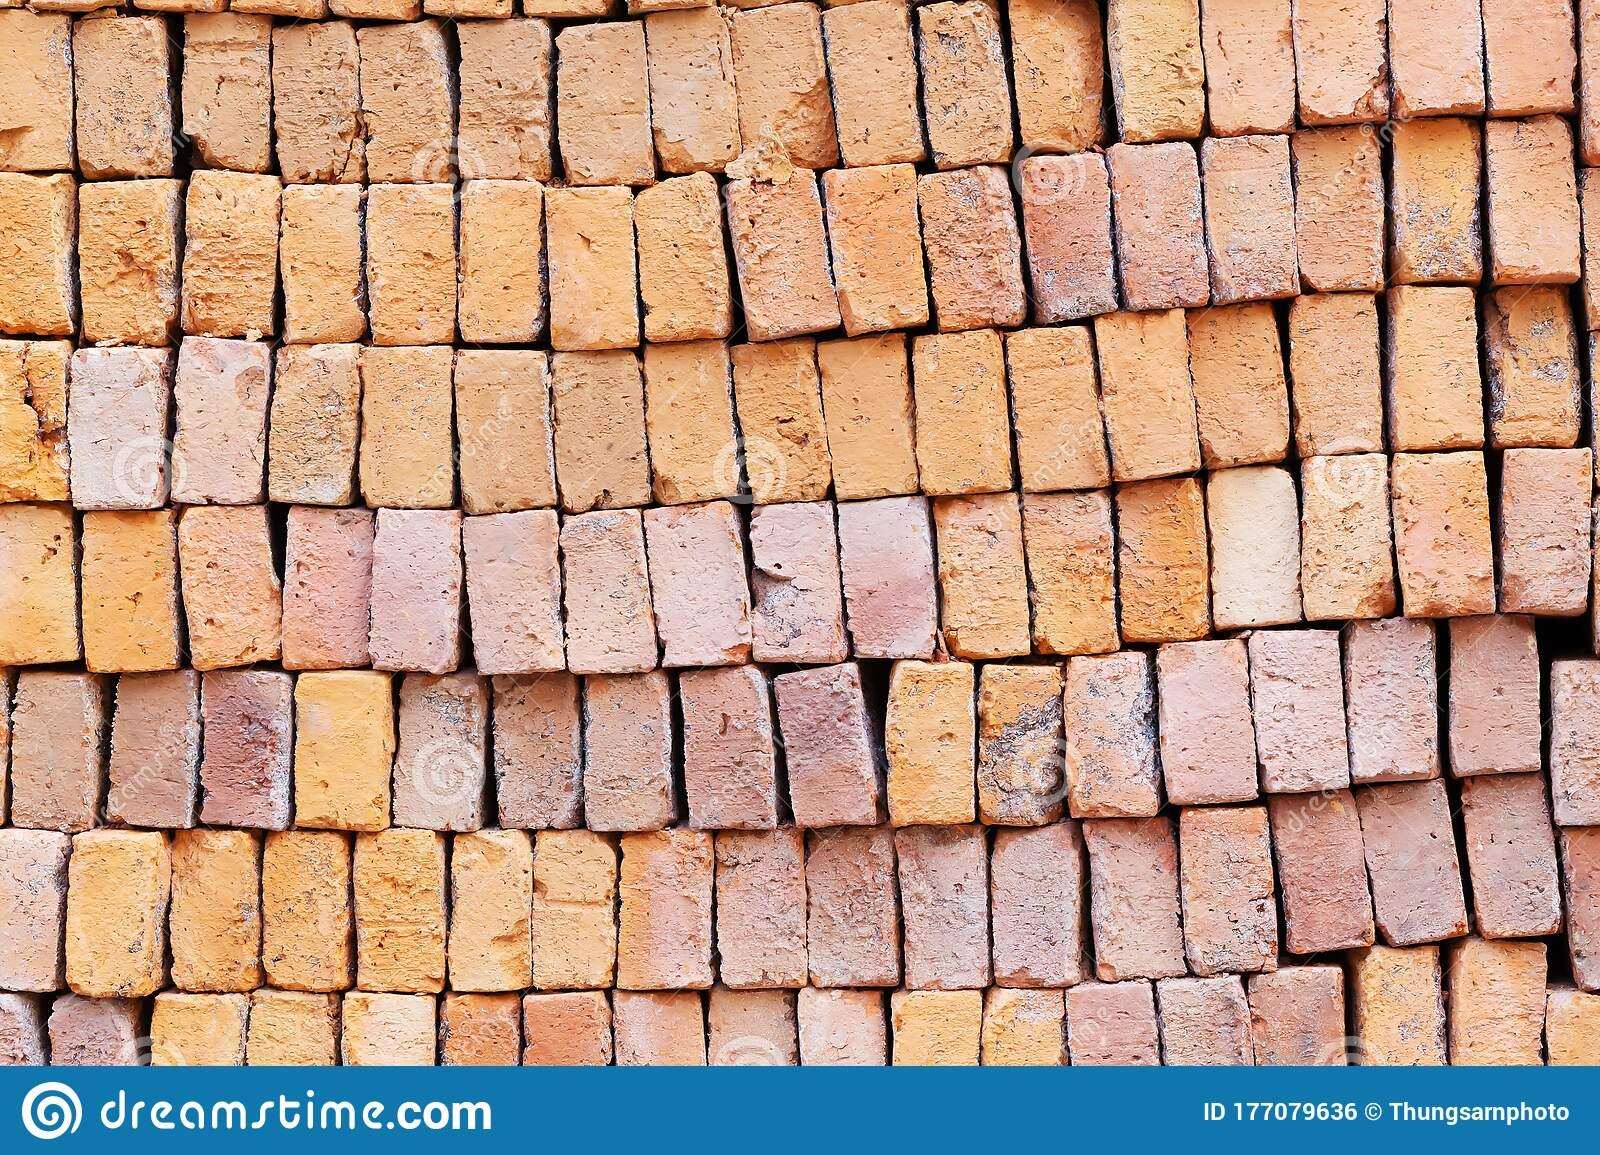brick: (727, 169, 841, 342), (643, 500, 755, 667), (1358, 777, 1467, 948), (1094, 309, 1202, 481), (824, 163, 929, 337), (729, 1, 837, 168), (918, 165, 1026, 330), (178, 505, 282, 672), (1107, 143, 1210, 309), (455, 349, 558, 514), (170, 335, 271, 504), (819, 333, 919, 500), (824, 0, 924, 168), (1007, 325, 1109, 491), (1155, 638, 1257, 804), (912, 325, 1011, 494), (181, 170, 282, 337), (1188, 303, 1289, 467), (1393, 451, 1494, 615), (463, 510, 565, 674), (1083, 817, 1185, 981), (68, 346, 171, 508), (78, 178, 179, 343), (775, 662, 876, 826), (1202, 137, 1301, 304), (1020, 154, 1118, 322), (293, 673, 396, 832), (1248, 631, 1349, 794), (1271, 795, 1374, 953), (730, 342, 831, 503), (1180, 808, 1277, 976), (635, 170, 729, 342), (560, 509, 660, 672), (836, 496, 937, 656), (66, 831, 164, 995), (1021, 492, 1120, 653), (681, 664, 778, 830), (646, 6, 743, 171), (555, 21, 653, 184), (1461, 777, 1560, 938), (1301, 453, 1395, 621), (1389, 286, 1484, 451), (933, 494, 1030, 657), (553, 351, 651, 512), (82, 510, 180, 671), (72, 16, 170, 176), (645, 340, 739, 504), (750, 500, 846, 662), (919, 1, 1011, 169), (369, 508, 461, 674), (1487, 114, 1580, 278), (272, 21, 366, 183), (359, 345, 453, 507), (617, 831, 713, 990), (545, 186, 637, 351), (1347, 615, 1439, 780), (1066, 652, 1158, 817), (716, 823, 807, 989), (358, 20, 451, 183), (281, 507, 374, 669), (457, 20, 552, 180), (1207, 468, 1302, 628), (1293, 125, 1384, 292), (1502, 447, 1593, 614), (884, 661, 975, 827), (1487, 284, 1580, 446), (1117, 478, 1210, 640), (354, 828, 446, 990), (1288, 293, 1381, 452), (199, 669, 292, 828), (270, 343, 360, 505), (896, 830, 989, 987), (1448, 615, 1540, 774), (806, 827, 898, 986), (1394, 119, 1482, 284), (394, 674, 486, 830), (457, 180, 544, 344), (993, 822, 1080, 986), (108, 671, 199, 827), (183, 11, 271, 171), (170, 830, 258, 990), (368, 185, 456, 344), (1009, 0, 1102, 150), (492, 674, 583, 828), (448, 830, 534, 992), (263, 831, 350, 990), (281, 184, 368, 342), (584, 672, 671, 830), (1108, 0, 1204, 142), (533, 828, 617, 989), (979, 664, 1062, 826), (12, 674, 91, 832), (1, 505, 78, 666), (0, 171, 76, 334), (1204, 1, 1294, 135), (1450, 940, 1545, 1066), (0, 339, 72, 503), (0, 828, 71, 991), (1293, 0, 1388, 122), (0, 9, 71, 170), (1355, 944, 1447, 1064), (1483, 0, 1578, 115), (1389, 0, 1482, 115), (1248, 967, 1347, 1067), (1158, 975, 1255, 1066), (1550, 661, 1600, 823), (1066, 981, 1159, 1064), (614, 990, 706, 1066), (342, 991, 435, 1066), (799, 987, 886, 1067), (523, 990, 612, 1067), (150, 995, 246, 1066), (708, 990, 796, 1066), (246, 992, 335, 1067), (891, 990, 981, 1063), (981, 987, 1066, 1066), (440, 992, 520, 1066), (50, 996, 134, 1066), (153, 1092, 153, 1092)
